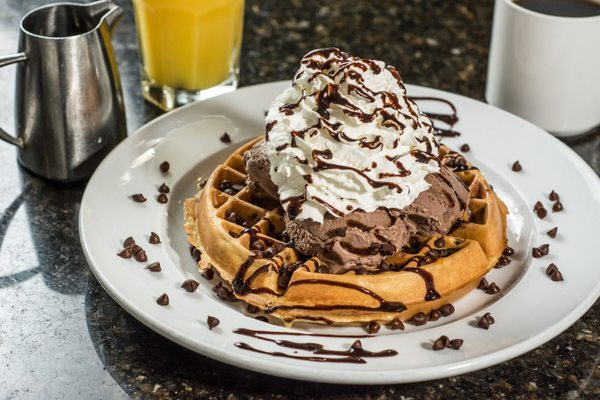soup: (178, 49, 507, 323)
